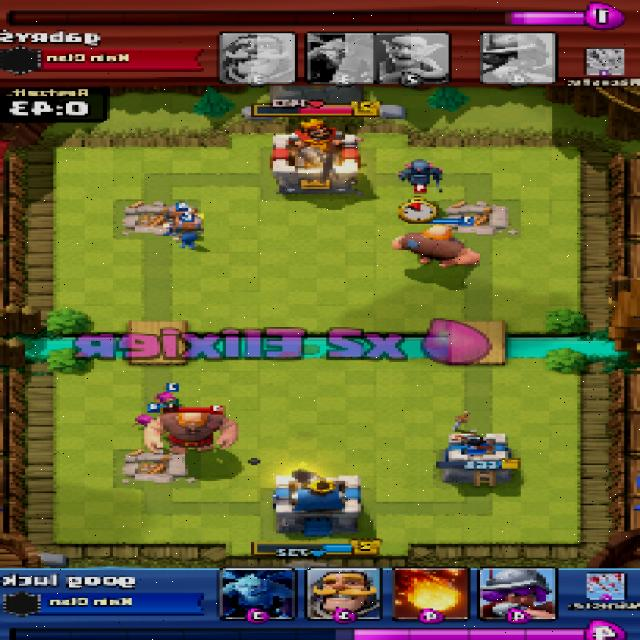Enemy-MiniPEKKA: (396, 160, 448, 186)
Player-Archer: (156, 388, 181, 410), (134, 413, 160, 430)
Player-Giant: (143, 408, 246, 454), (392, 223, 482, 270)
Player-Wallbreaker: (164, 216, 206, 246), (165, 204, 202, 228)
